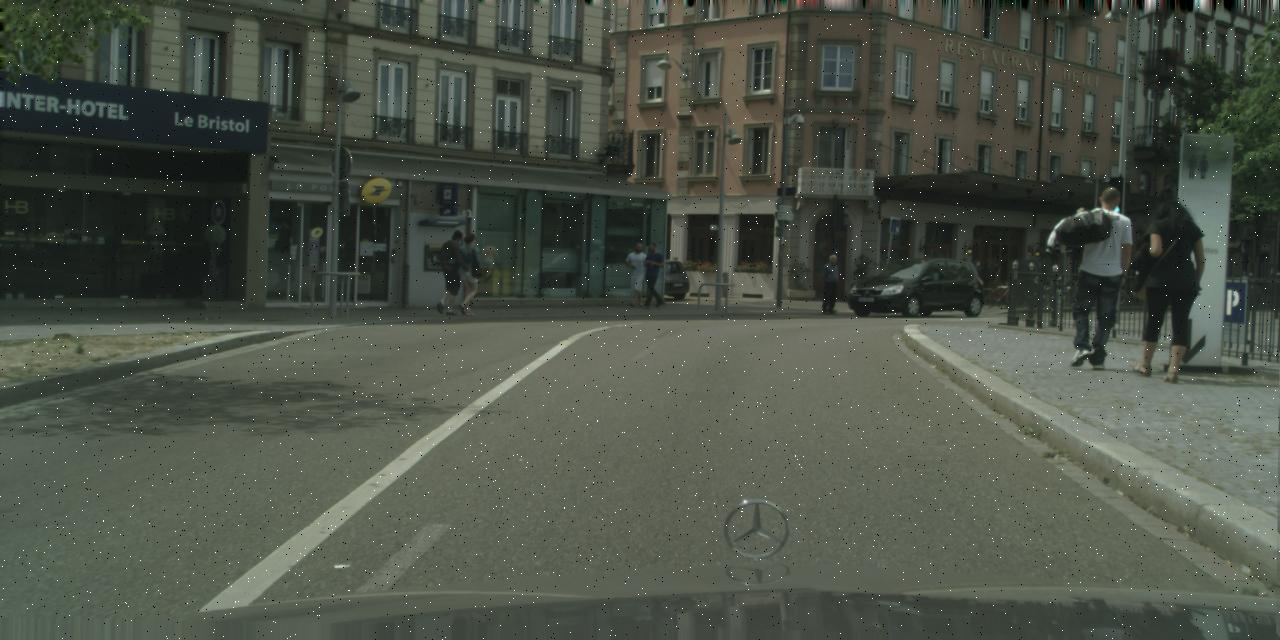ped: (1060, 186, 1135, 370), (1126, 198, 1198, 377), (433, 230, 468, 316), (451, 232, 485, 316), (638, 242, 665, 307), (624, 242, 650, 306), (819, 254, 844, 314), (666, 256, 682, 298)
